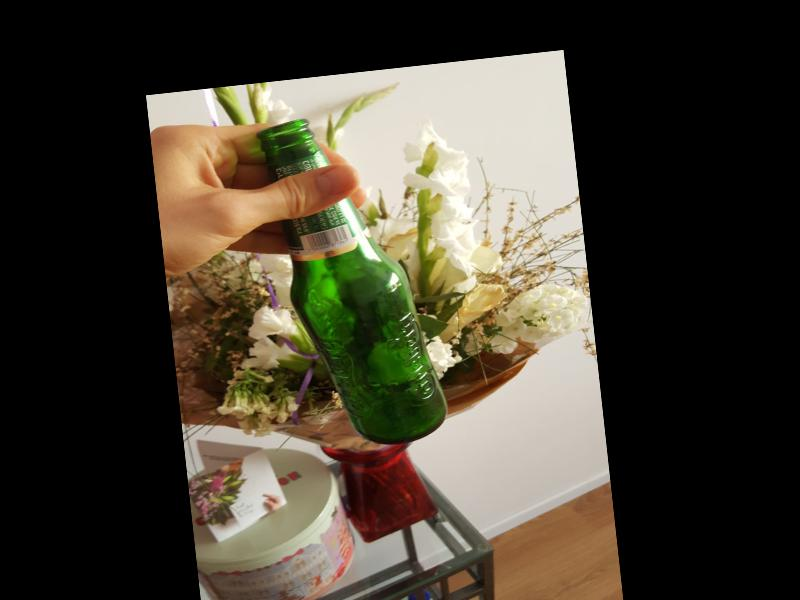Beer: (271, 106, 450, 453)
